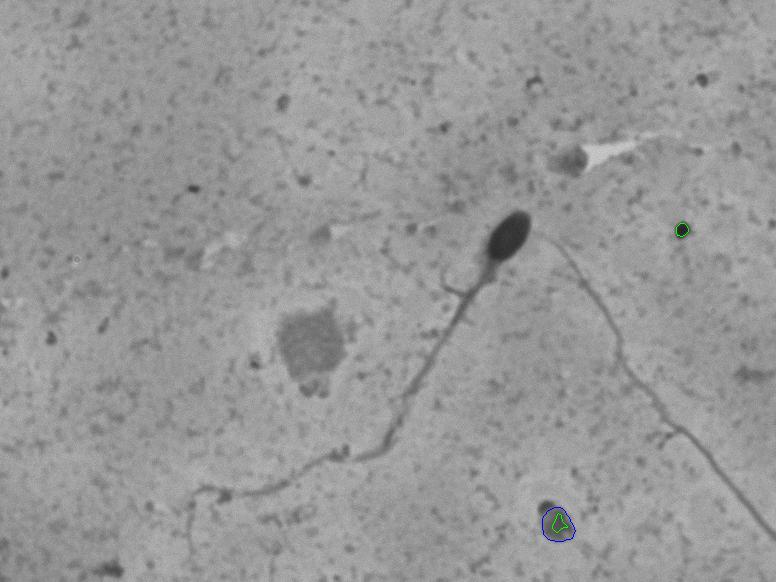Normal: (165, 196, 537, 559)
